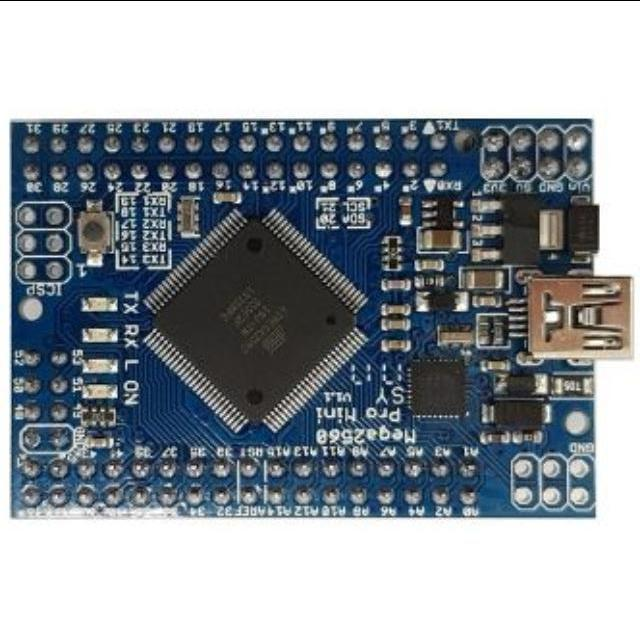Arduino-ProMini: (12, 120, 632, 519)
